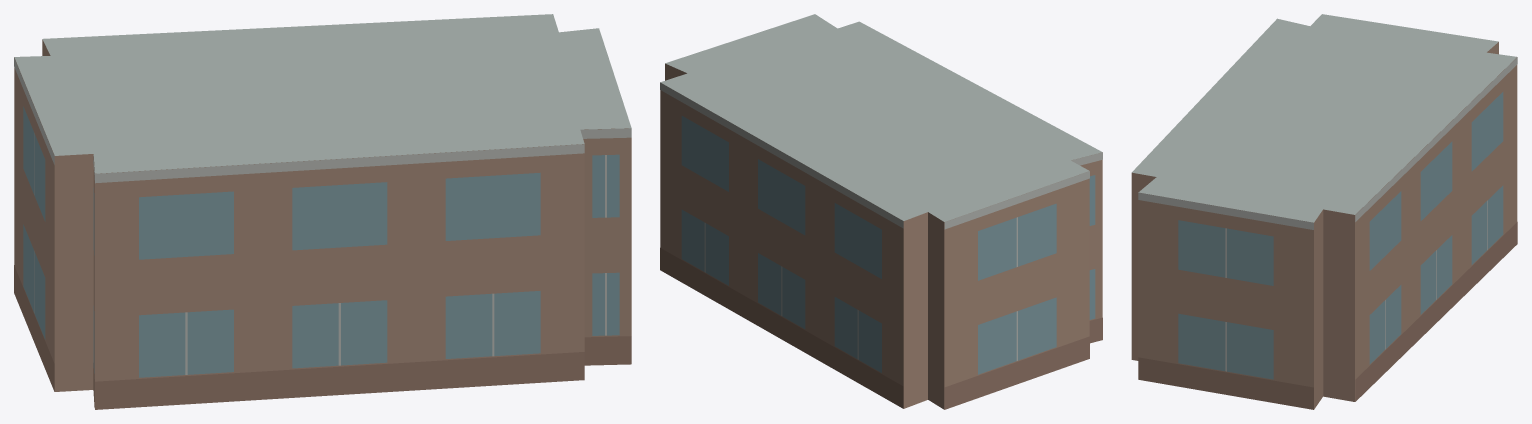
File: survey-upis-32789235.glb
The picture shows the model from 3 angles, left to right: view 1: azimuth 30°, elevation 25°; view 2: azimuth 150°, elevation 25°; view 3: azimuth 270°, elevation 25°; orthographic projection. The views are drawn at different scales.
Visible parts, largest first — view 1: survey-upis-32789235.tmp; view 2: survey-upis-32789235.tmp; view 3: survey-upis-32789235.tmp.
Part boxes in pixels (x1=…): survey-upis-32789235.tmp: x1=14, y1=14, x2=631, y2=409; survey-upis-32789235.tmp: x1=660, y1=14, x2=1102, y2=409; survey-upis-32789235.tmp: x1=1131, y1=14, x2=1517, y2=409.
Size of the model in its own units: 14.59 by 6.1 by 11.41.
